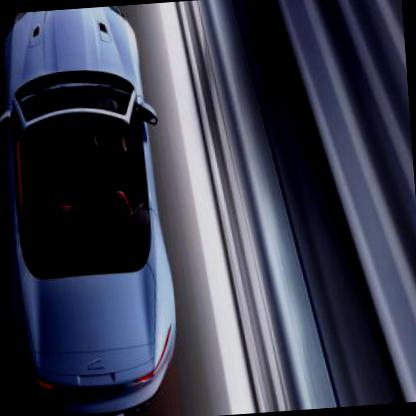car: (0, 3, 181, 409)
